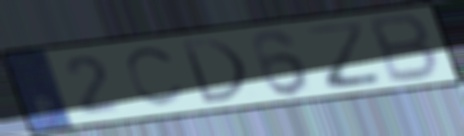2: (64, 53, 125, 118)
6: (249, 26, 315, 99)
B: (366, 11, 442, 86)
C: (122, 44, 189, 110)
D: (177, 36, 251, 106)
Z: (300, 18, 388, 92)
